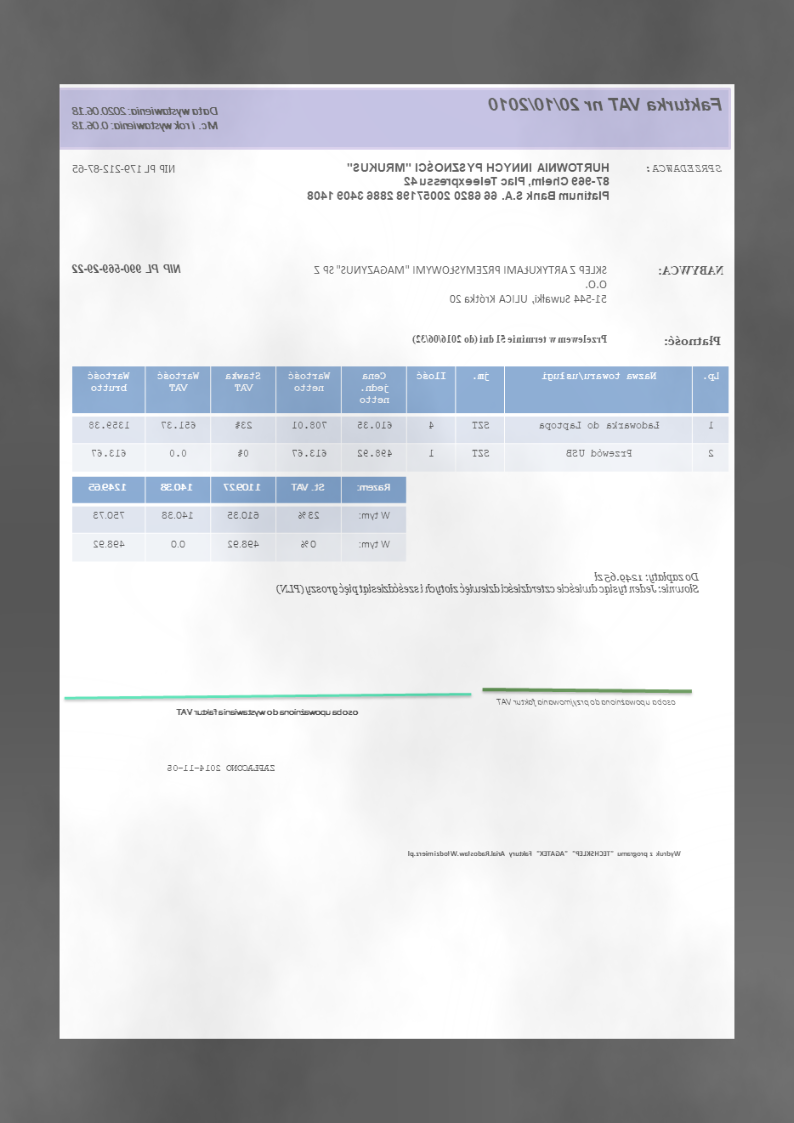Table: (71, 364, 731, 474), (71, 474, 408, 563)
TextBox: (304, 158, 612, 205), (314, 263, 608, 306), (274, 569, 702, 598), (486, 94, 725, 115), (66, 103, 222, 132), (404, 847, 683, 859), (411, 332, 610, 346), (495, 695, 678, 709), (175, 706, 362, 718), (71, 260, 183, 276), (72, 160, 179, 176), (166, 762, 277, 774), (644, 161, 726, 174), (657, 263, 726, 277), (663, 332, 722, 348)
